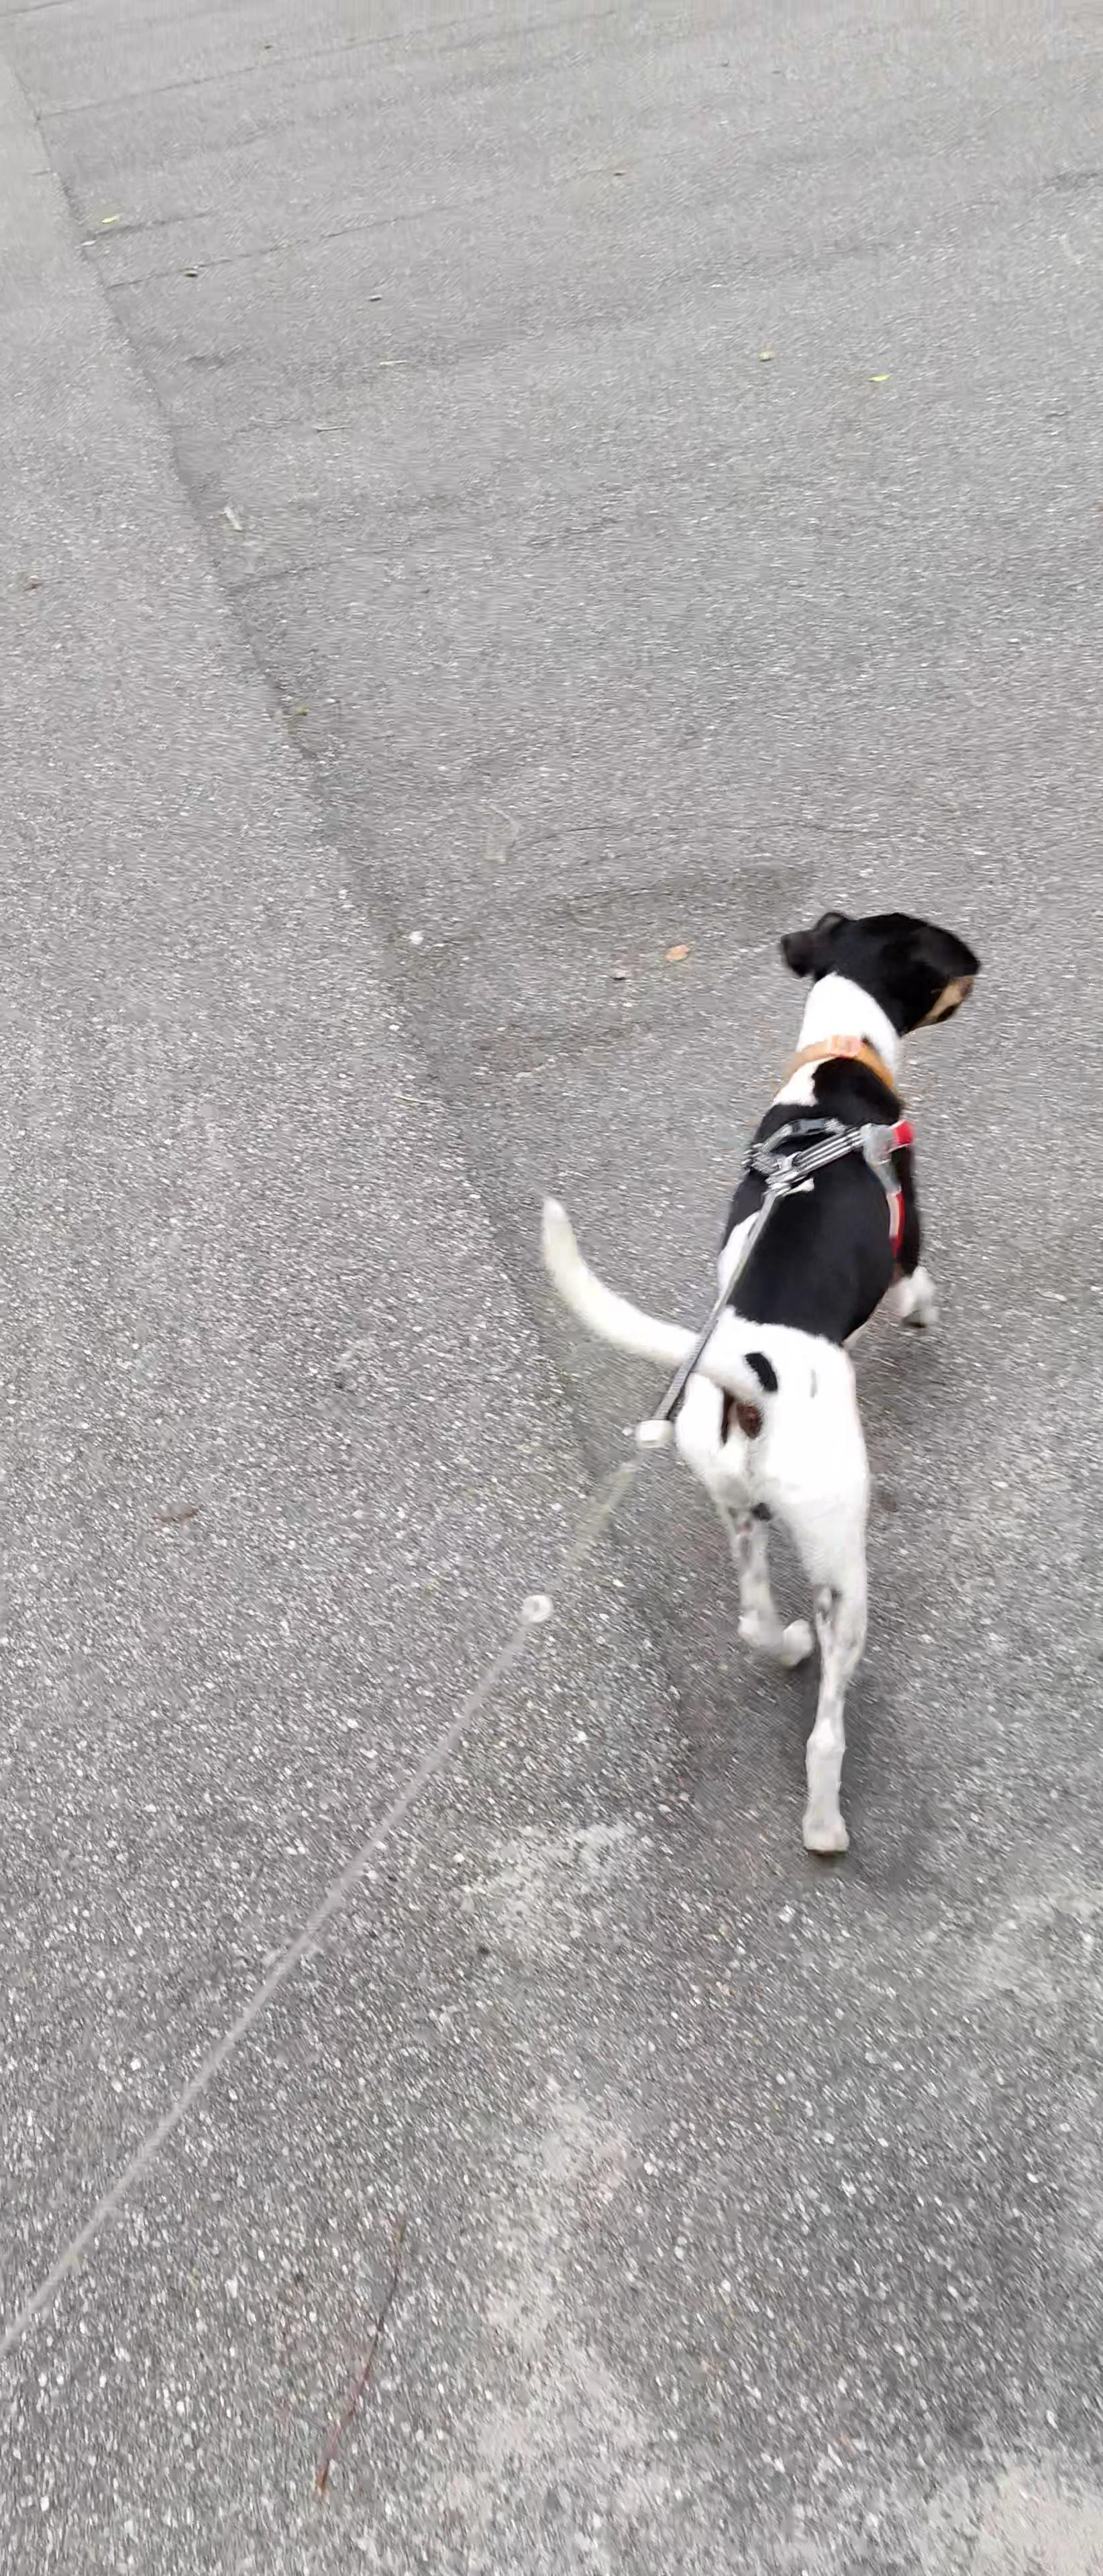Dog: (519, 887, 1003, 1878)
